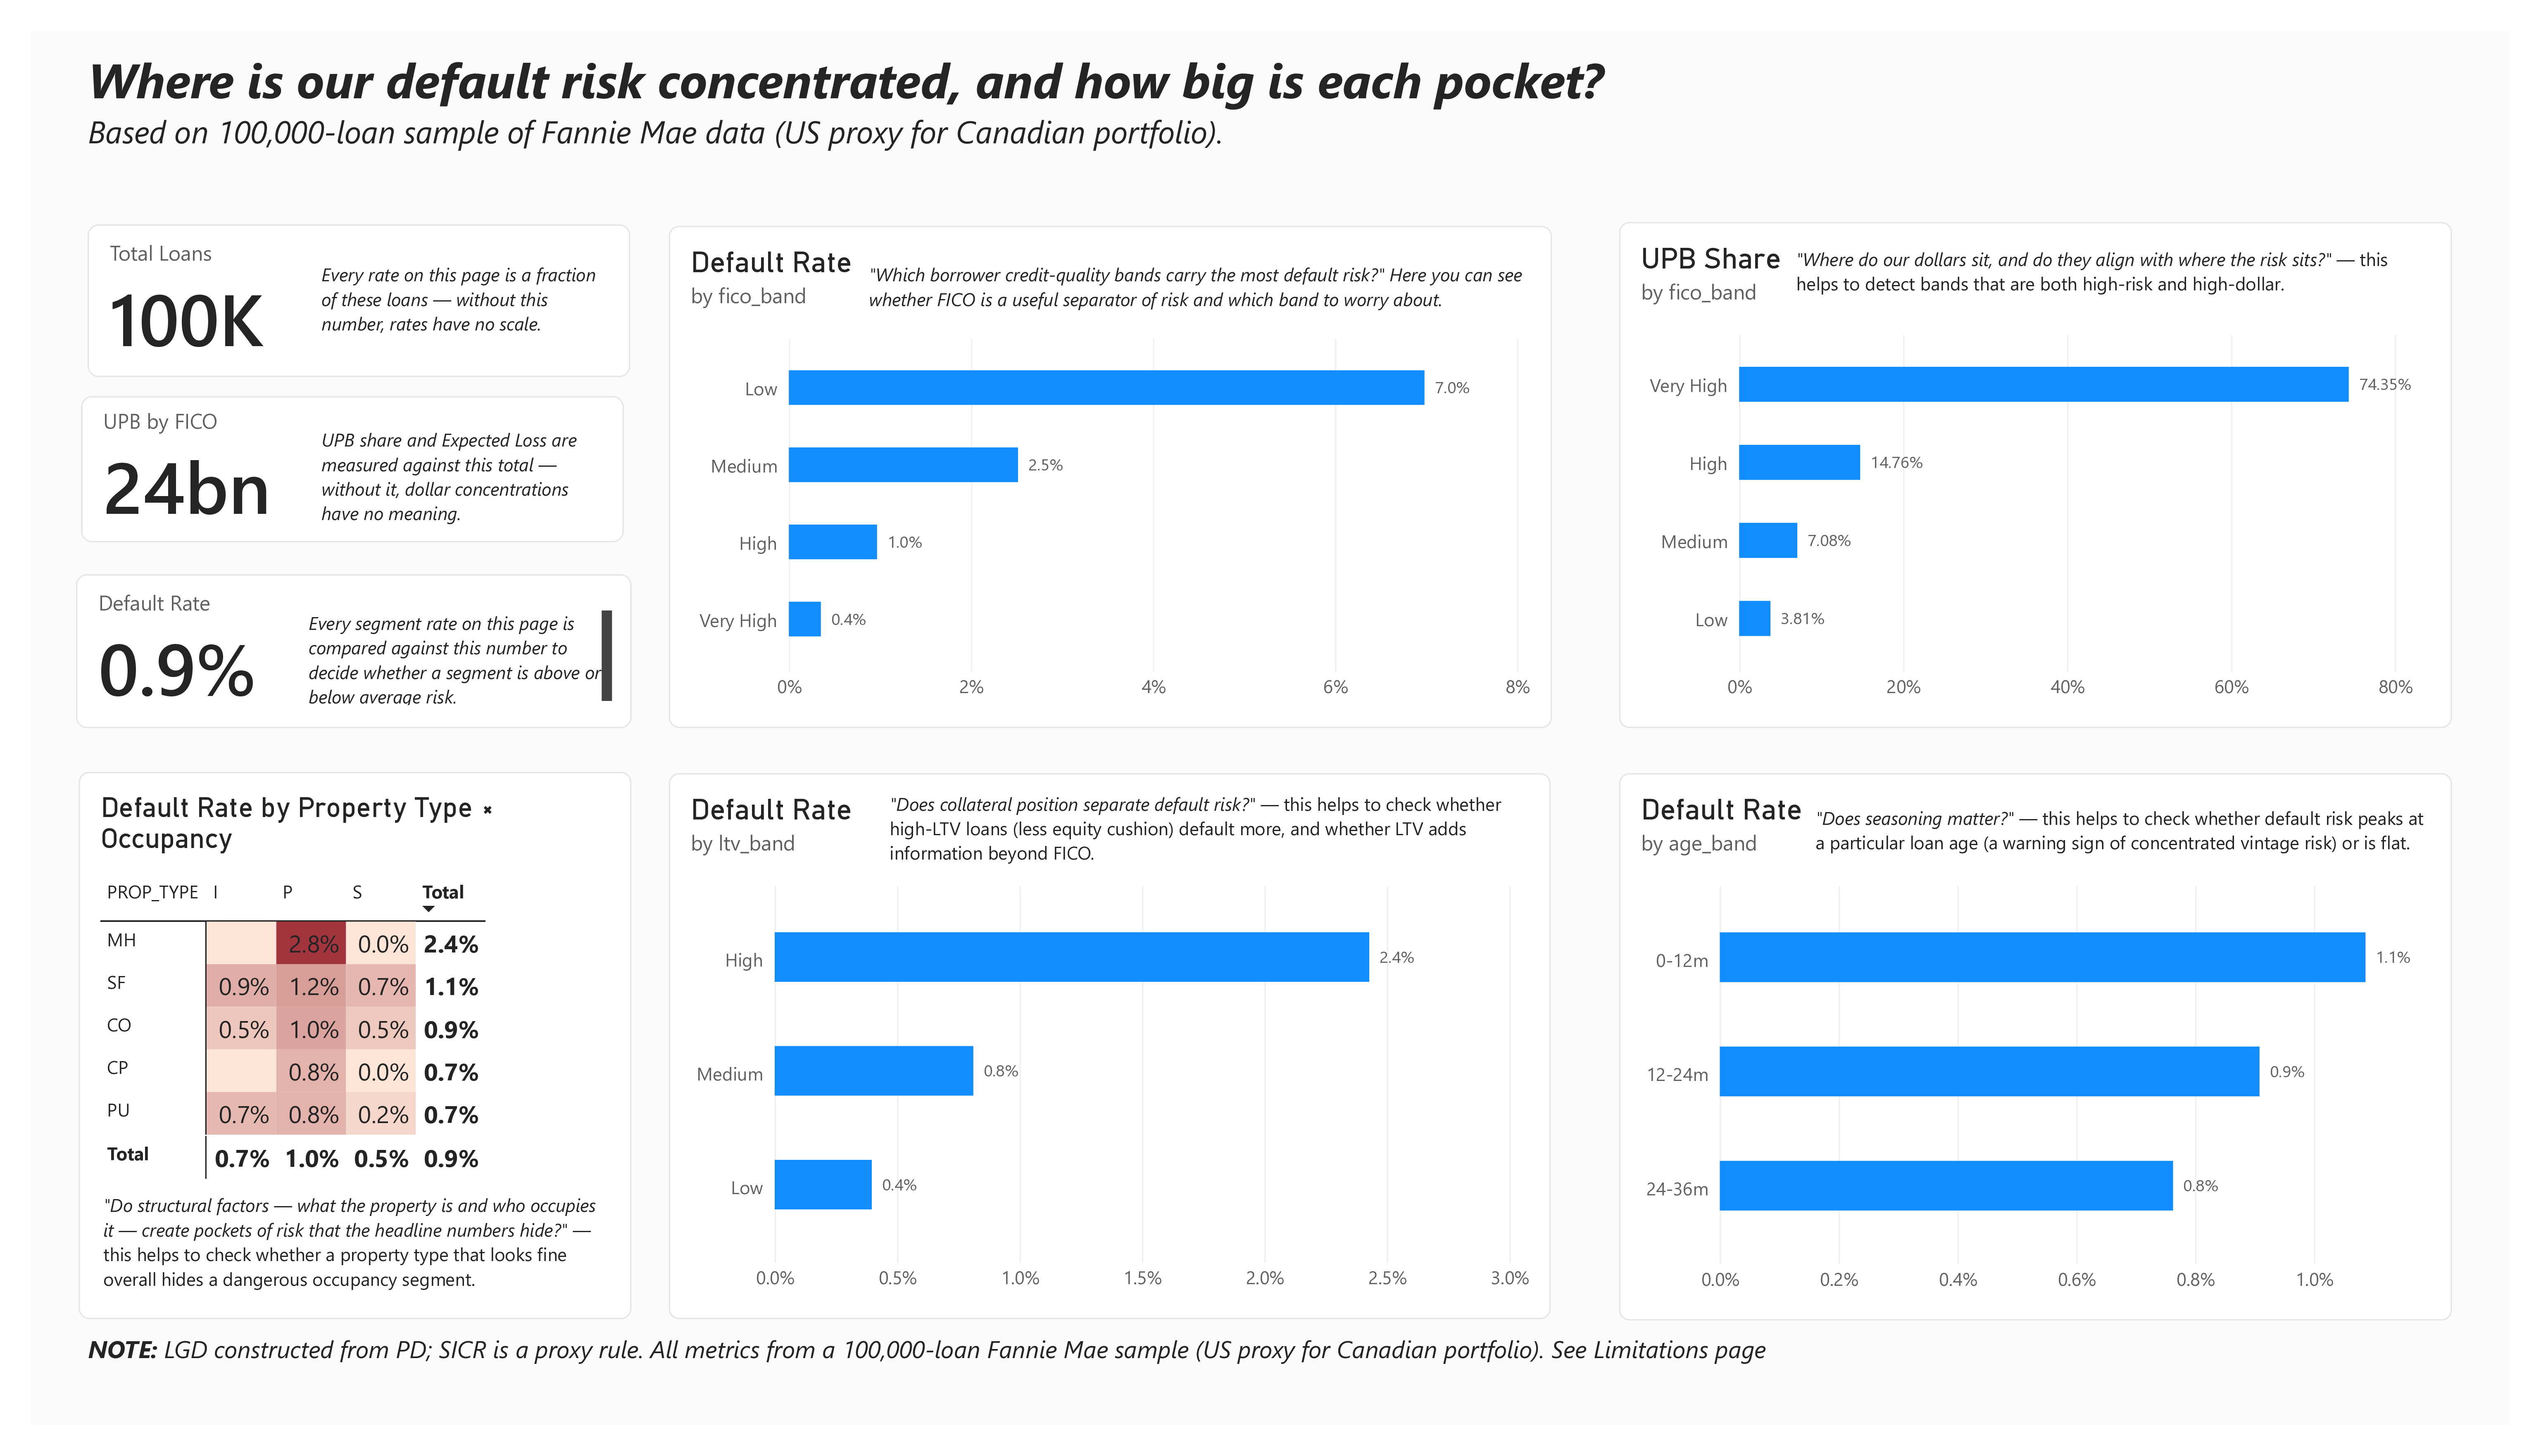

The page's visual inventory and layout, read from the dashboard file:
{"tool":"powerbi","page":{"name":"Risk Concentration","canvas":[1920,1080],"ordinal":0},"visuals":[{"type":"clusteredBarChart","fields":{"Category":["fact_loan_portfolio.fico_band"],"Y":["fact_loan_portfolio.Default Rate"]},"box":[494,150.7,683.6,389.6],"z":0},{"type":"cardVisual","fields":{"Data":["fact_loan_portfolio.Total Loans"]},"box":[44.4,150,420.8,118.1],"z":1000},{"type":"clusteredBarChart","fields":{"Category":["fact_loan_portfolio.fico_band"],"Y":["fact_loan_portfolio.UPB Share"]},"box":[1229.9,147.8,644.8,392.5],"z":2000},{"type":"textbox","box":[44.2,11.6,1293,107],"z":3000},{"type":"cardVisual","fields":{"Data":["fact_loan_portfolio.UPB by FICO"]},"box":[38.9,283.3,420.8,113.9],"z":4000},{"type":"clusteredBarChart","fields":{"Category":["fact_loan_portfolio.ltv_band"],"Y":["fact_loan_portfolio.Default Rate"]},"box":[494,574.6,683.3,423.6],"z":6000},{"type":"clusteredBarChart","fields":{"Category":["fact_loan_portfolio.age_band"],"Y":["fact_loan_portfolio.Default Rate"]},"box":[1229.9,574.6,644.8,423.9],"z":7000},{"type":"pivotTable","title":"Default Rate by Property Type × Occupancy","fields":{"Columns":["fact_loan_portfolio.OCCU_STAT"],"Rows":["fact_loan_portfolio.PROP_TYPE"],"Values":["fact_loan_portfolio.Default Rate"]},"box":[37.2,574.4,427.9,423.3],"z":8000},{"type":"textbox","box":[44.4,1008.3,1398.6,45.8],"z":9000},{"type":"cardVisual","fields":{"Data":["fact_loan_portfolio.Default Rate"]},"box":[34.7,420.8,430.6,119.4],"z":10000},{"type":"textbox","box":[55.6,900,389.6,77.6],"z":11000},{"type":"textbox","box":[225,179.2,223.6,63.9],"z":12000},{"type":"textbox","box":[215.3,448.6,234.7,73.6],"z":13000},{"type":"textbox","box":[665.3,588.9,477.8,58.3],"z":14000},{"type":"textbox","box":[1381.9,600,476.4,59.7],"z":15000},{"type":"textbox","box":[225,306.9,223.6,76.4],"z":16000},{"type":"textbox","box":[648.6,179.2,516.7,47.2],"z":17000},{"type":"textbox","box":[1366.7,166.7,473.6,44.4],"z":18000}]}

Visuals, with their boxes on the page's 1920x1080 design canvas (x1, y1, x2, y2). These are canvas units, not pixel positions in the 2541x1456 screenshot, which may show the page scaled, cropped or inside an application window:
clusteredBarChart - fact_loan_portfolio.fico_band x fact_loan_portfolio.Default Rate: l=494, t=151, r=1178, b=540
cardVisual - fact_loan_portfolio.Total Loans: l=44, t=150, r=465, b=268
clusteredBarChart - fact_loan_portfolio.fico_band x fact_loan_portfolio.UPB Share: l=1230, t=148, r=1875, b=540
textbox: l=44, t=12, r=1337, b=119
cardVisual - fact_loan_portfolio.UPB by FICO: l=39, t=283, r=460, b=397
clusteredBarChart - fact_loan_portfolio.ltv_band x fact_loan_portfolio.Default Rate: l=494, t=575, r=1177, b=998
clusteredBarChart - fact_loan_portfolio.age_band x fact_loan_portfolio.Default Rate: l=1230, t=575, r=1875, b=998
"Default Rate by Property Type × Occupancy" pivotTable: l=37, t=574, r=465, b=998
textbox: l=44, t=1008, r=1443, b=1054
cardVisual - fact_loan_portfolio.Default Rate: l=35, t=421, r=465, b=540
textbox: l=56, t=900, r=445, b=978
textbox: l=225, t=179, r=449, b=243
textbox: l=215, t=449, r=450, b=522
textbox: l=665, t=589, r=1143, b=647
textbox: l=1382, t=600, r=1858, b=660
textbox: l=225, t=307, r=449, b=383
textbox: l=649, t=179, r=1165, b=226
textbox: l=1367, t=167, r=1840, b=211
